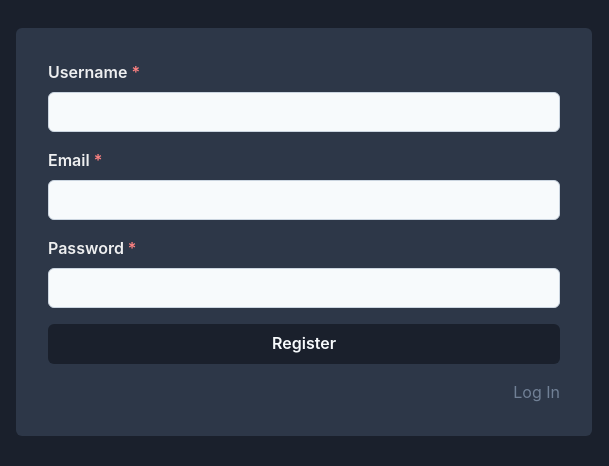
Test case: register.spec.ts - Register Form › should show error if password is not at least 4 characters
Type "tes" into the password field labelled "Password*" at (304, 288), box x1=48 y1=268 x2=560 y2=308
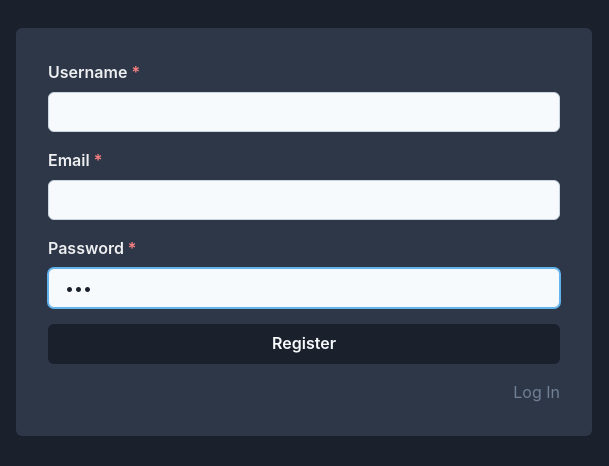
Leave the password field labelled "Password*", box x1=48 y1=268 x2=560 y2=308
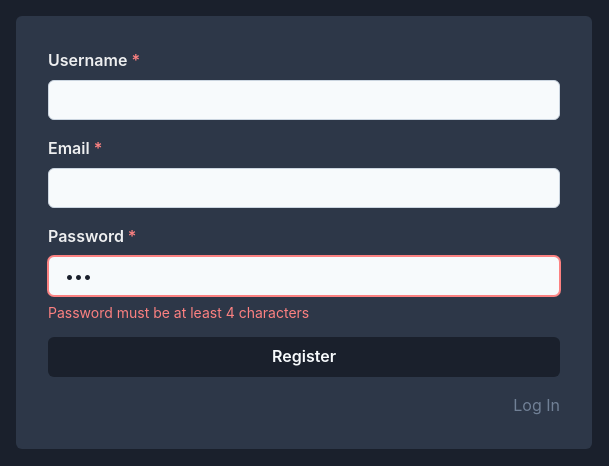
Expected: the text "Password must be at least 4 characters" is shown, x1=48 y1=304 x2=309 y2=320
